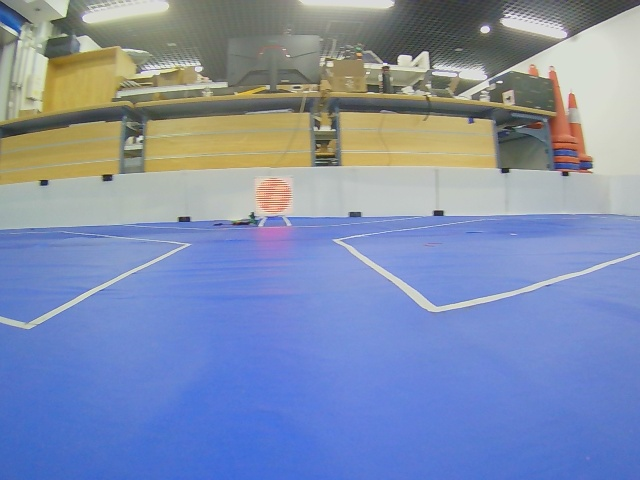red: (255, 178, 293, 216)
